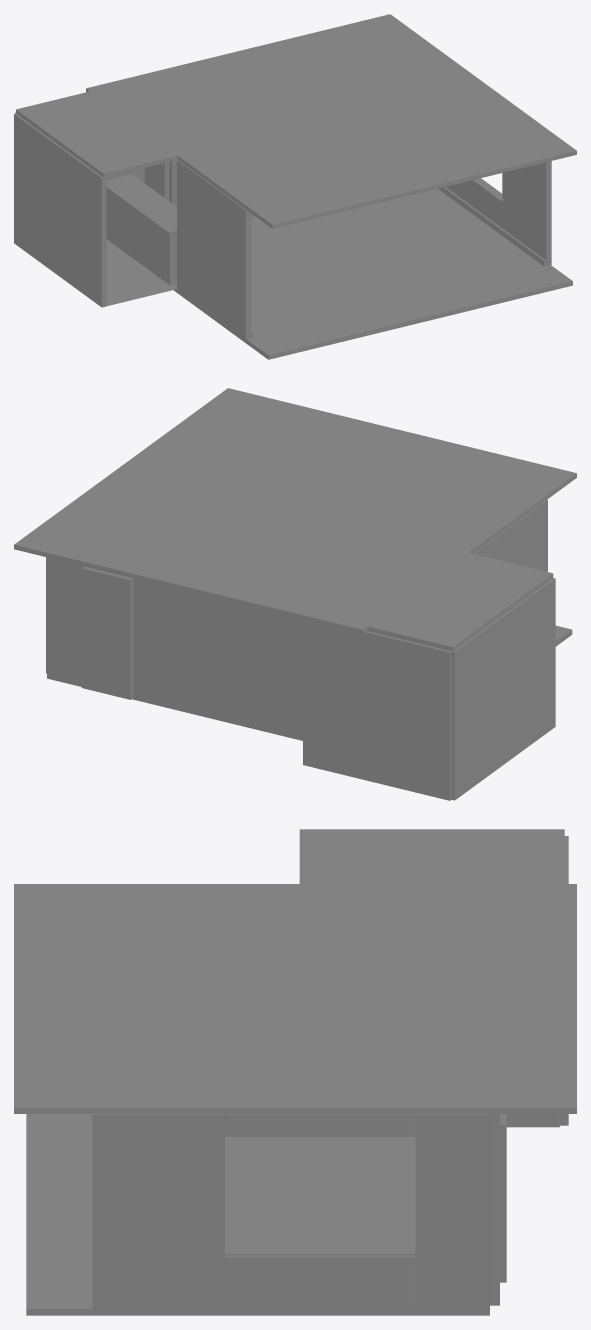
The model's file is room.glb.
3 renders of one model, top to bottom at view 1: azimuth 30°, elevation 25°; view 2: azimuth 150°, elevation 25°; view 3: azimuth 270°, elevation 25°, orthographic. The views are drawn at different scales.
Parts seen in each view (by area): view 1: Baked_room; view 2: Baked_room; view 3: Baked_room.
Boxes of the visible parts, x1,y1,x2,y2 form: Baked_room: (14,14,576,359); Baked_room: (14,388,576,800); Baked_room: (14,829,576,1315).
Bounding box in the file's own units: 8.02 × 2.77 × 6.8.
Materials: 2 (2 with a texture image).
